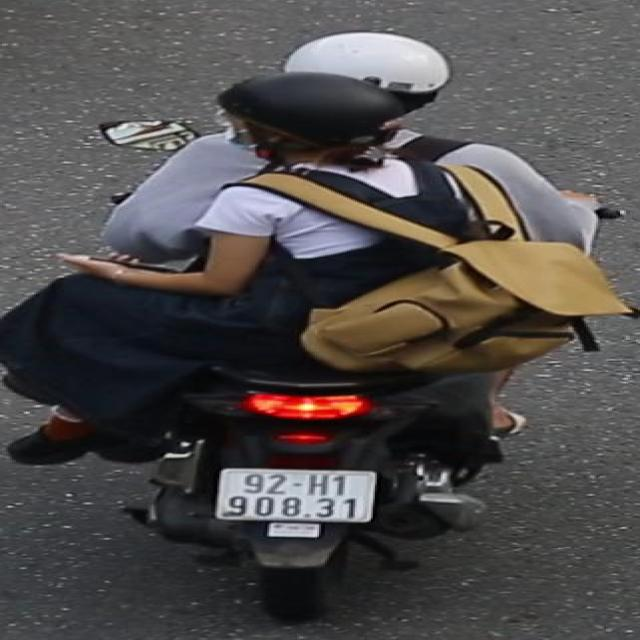LP: (188, 455, 398, 546)
helmet: (222, 73, 402, 167), (279, 32, 463, 100)
